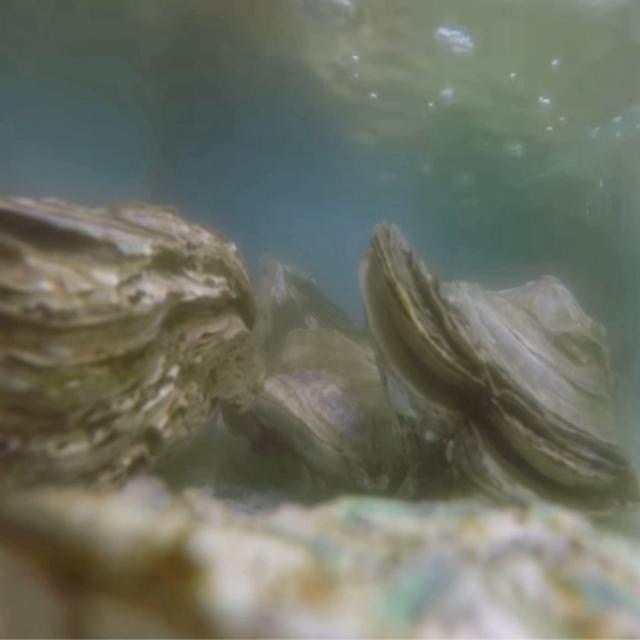Oyster-Closed: (0, 195, 259, 522), (258, 328, 420, 505)
Oyster-Indeterminate: (0, 476, 640, 640), (266, 262, 371, 372)
Oyster-Open: (357, 221, 640, 531)
